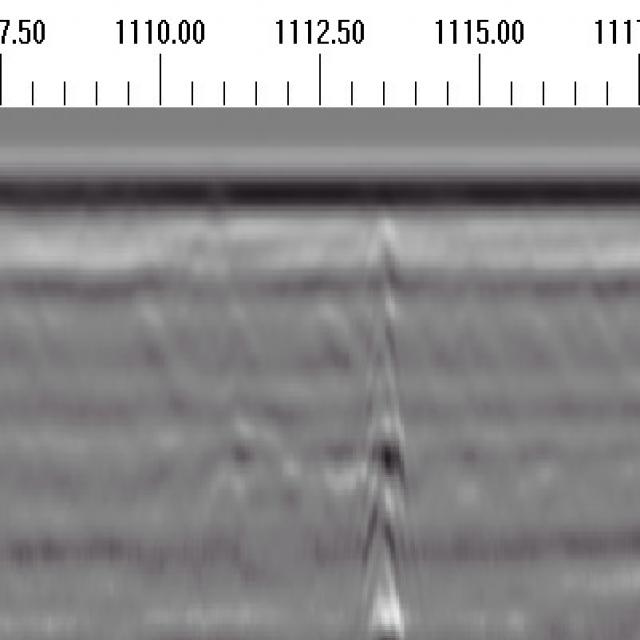crack: (365, 212, 406, 639)
